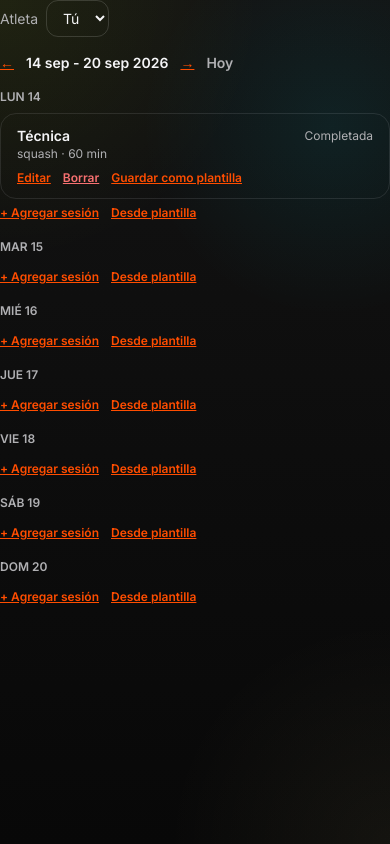
Scenario: CoachPlanningPanel interactions › trabajo registrado pide confirmación con el copy destructivo
This screenshot has width=390, height=844.
Click the button "Borrar" at (81, 178), box 63,170 -> 99,186
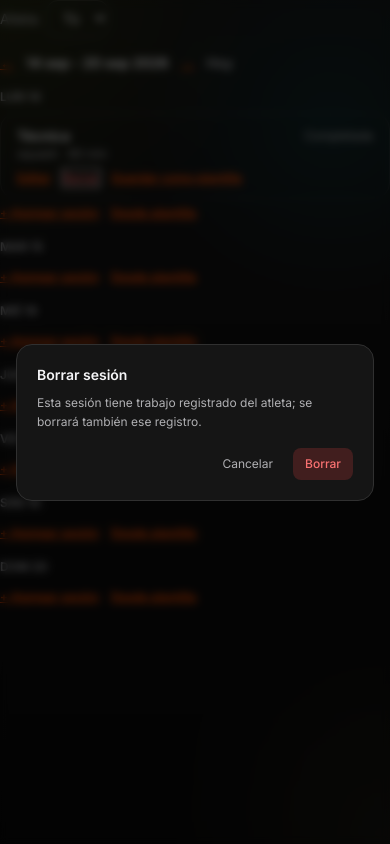
Result: the text "Esta sesión tiene trabajo registrado del atleta; se borrará también ese registro." is shown at 37,394 -> 312,429
